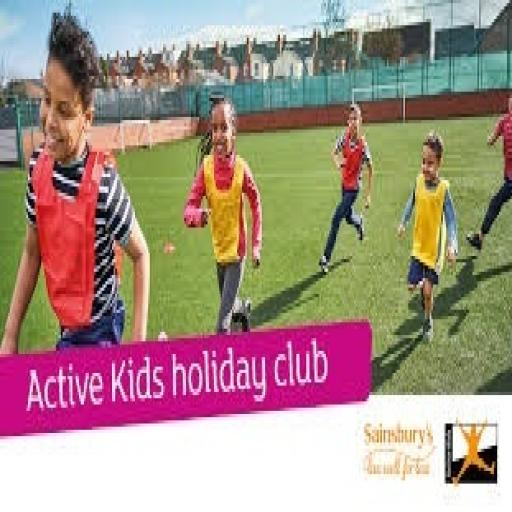running: (0, 10, 153, 357), (181, 95, 265, 335), (395, 126, 461, 348), (316, 98, 377, 278), (464, 89, 510, 259)
